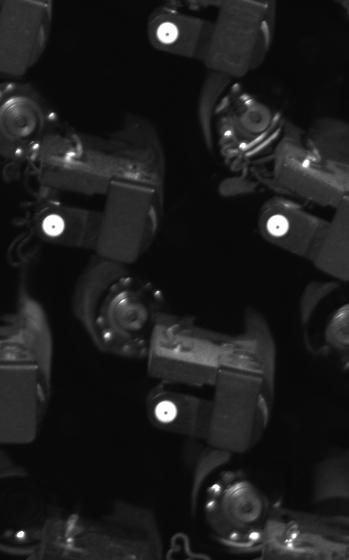fiber: (150, 394, 187, 429), (151, 18, 190, 49), (34, 210, 72, 241), (262, 208, 296, 242)
